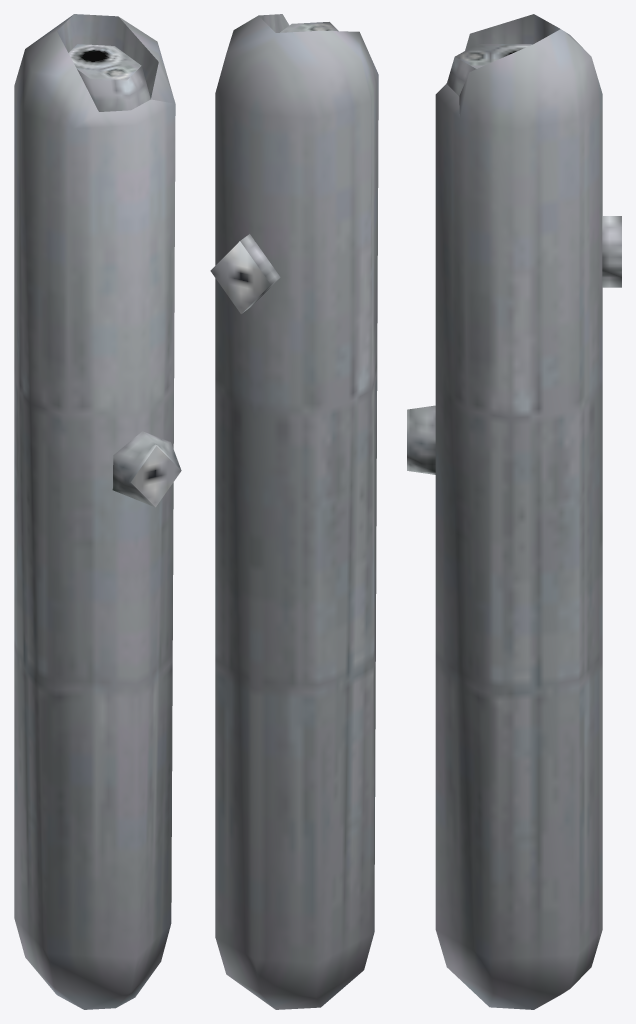
File: wp_mle_sword_lightsaber_sleeksilver_l1.fbx
The picture shows the model from 3 angles, left to right: view 1: azimuth 30°, elevation 25°; view 2: azimuth 150°, elevation 25°; view 3: azimuth 270°, elevation 25°; orthographic projection.
Parts seen in each view (by area): view 1: mesh_node; view 2: mesh_node; view 3: mesh_node.
Boxes of the visible parts, x1,y1,x2,y2 form: mesh_node: [14, 14, 181, 1009]; mesh_node: [210, 14, 378, 1009]; mesh_node: [407, 14, 621, 1009].
Bounding box in the file's own units: 0.0355 × 0.2262 × 0.0456.
